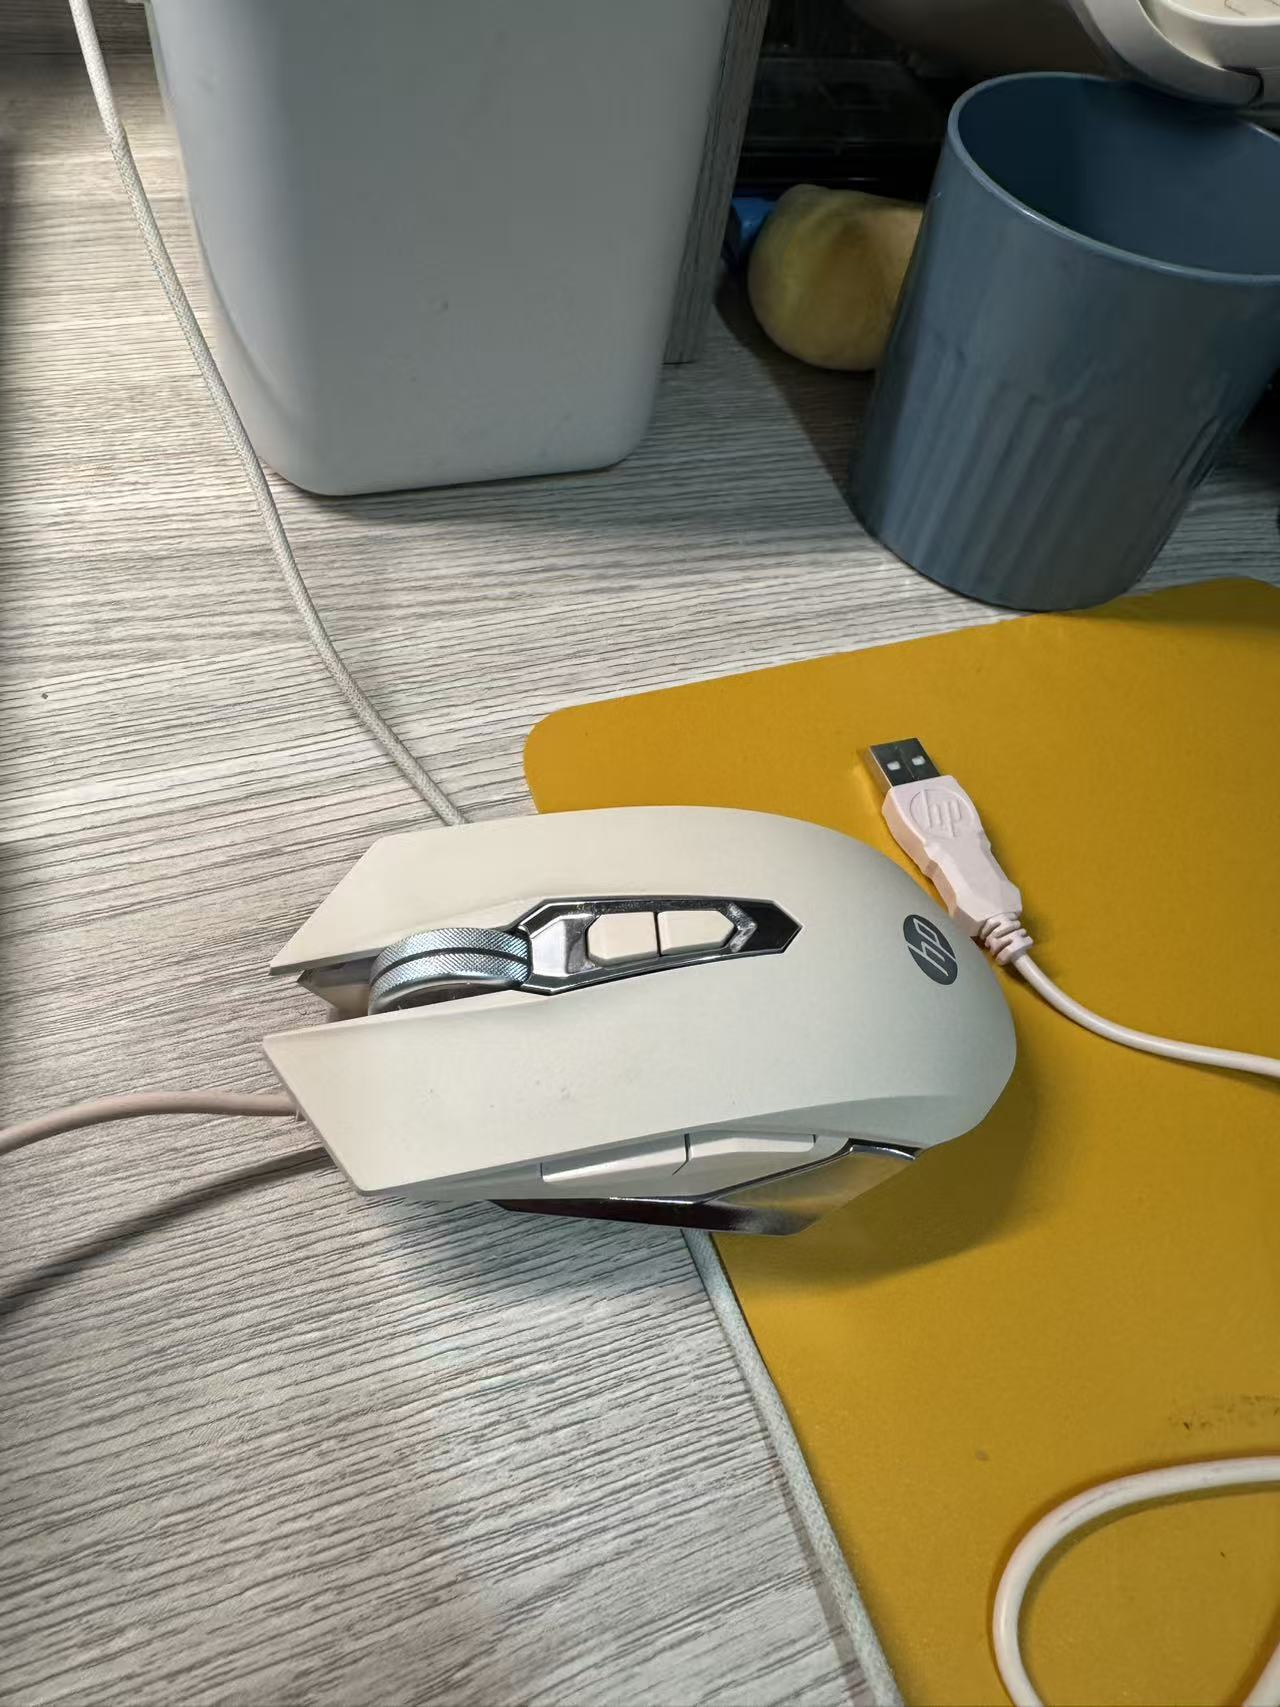mouse: (253, 761, 1026, 1259)
